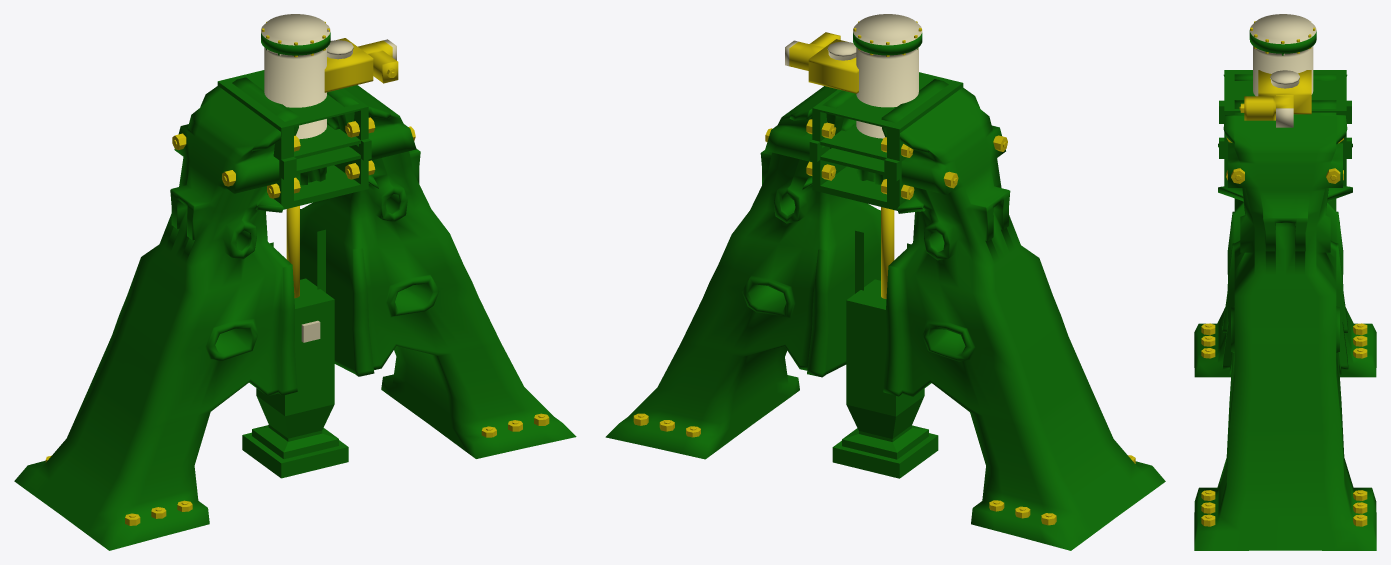
Rendered from steamhammer.fbx.
The picture shows the model from 3 angles, left to right: view 1: azimuth 30°, elevation 25°; view 2: azimuth 150°, elevation 25°; view 3: azimuth 270°, elevation 25°; orthographic projection. The views are drawn at different scales.
Parts seen in each view (by area): view 1: Cube; view 2: Cube; view 3: Cube.
Part boxes in pixels (left/top/right/bottom): Cube: left=14, top=14, right=576, bottom=550; Cube: left=605, top=14, right=1165, bottom=550; Cube: left=1194, top=14, right=1376, bottom=550.
Size of the model in its own units: 838 by 741 by 296.
